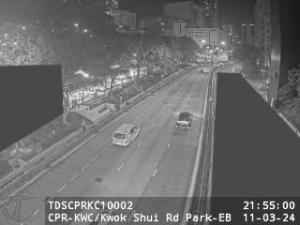vehicle: (112, 122, 140, 148), (176, 111, 192, 129), (200, 68, 204, 72)
